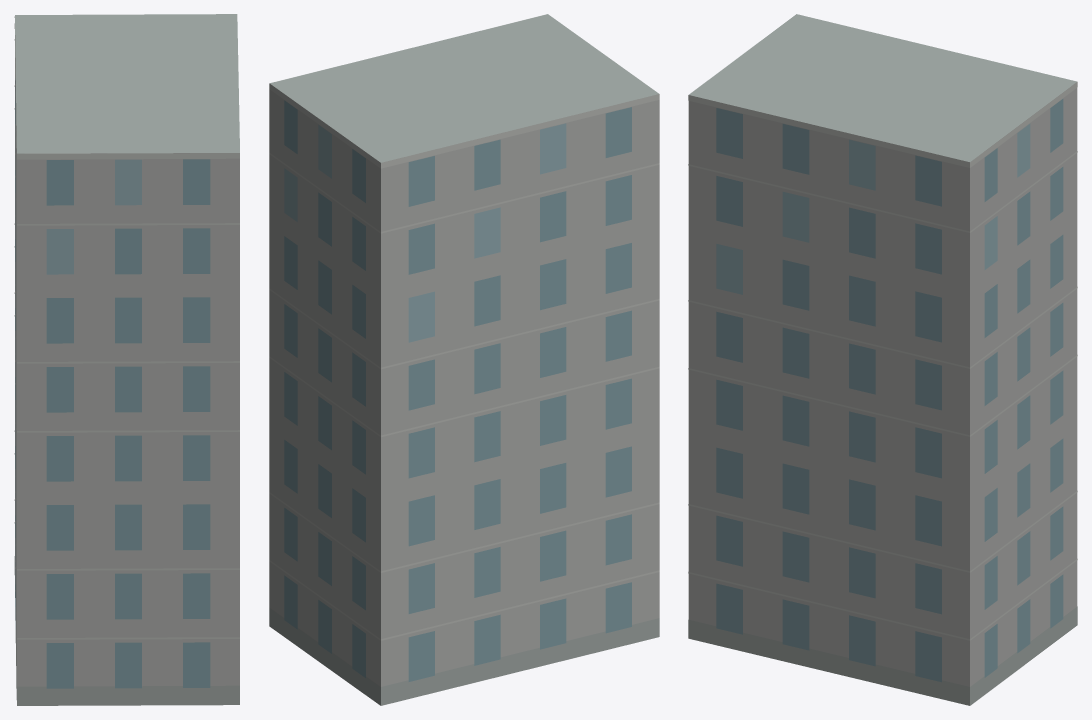
Rendered from survey-upis-33012490.glb.
3 views of the same model, side by side, from view 1: azimuth 30°, elevation 25°; view 2: azimuth 150°, elevation 25°; view 3: azimuth 270°, elevation 25° (orthographic).
Visible parts, largest first — view 1: survey-upis-33012490.tmp; view 2: survey-upis-33012490.tmp; view 3: survey-upis-33012490.tmp.
Boxes of the visible parts, left/top/right/bottom form: survey-upis-33012490.tmp: left=14, top=14, right=239, bottom=705; survey-upis-33012490.tmp: left=269, top=14, right=659, bottom=705; survey-upis-33012490.tmp: left=688, top=14, right=1077, bottom=705.
Size of the model in its own units: 13.36 by 22.8 by 14.81.
